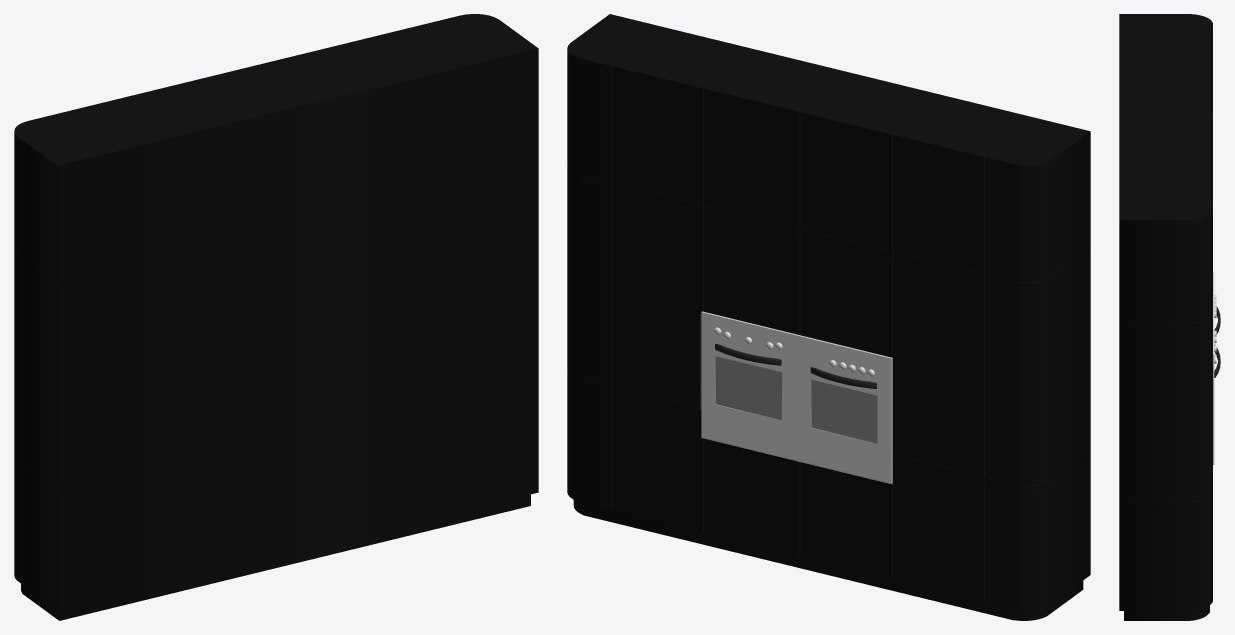
The model's file is kikitchen_cupboard_lp.FBX.
3 renders of one model, left to right at view 1: azimuth 30°, elevation 25°; view 2: azimuth 150°, elevation 25°; view 3: azimuth 270°, elevation 25°, orthographic. The views are drawn at different scales.
Parts seen in each view (by area): view 1: Rectangle327; view 2: Rectangle327, Plane001, cook_006_02, Object016; view 3: Rectangle327, Plane001, Object016.
Boxes of the visible parts, left/top/right/bottom form: Rectangle327: left=14, top=14, right=538, bottom=620; Rectangle327: left=567, top=14, right=1090, bottom=620; Plane001: left=701, top=311, right=892, bottom=484; cook_006_02: left=715, top=356, right=877, bottom=443; Object016: left=715, top=344, right=876, bottom=388; Rectangle327: left=1119, top=14, right=1212, bottom=620; Plane001: left=1213, top=272, right=1216, bottom=464; Object016: left=1214, top=306, right=1220, bottom=377.
Bounding box in the file's own units: 123 × 111 × 25.36.
